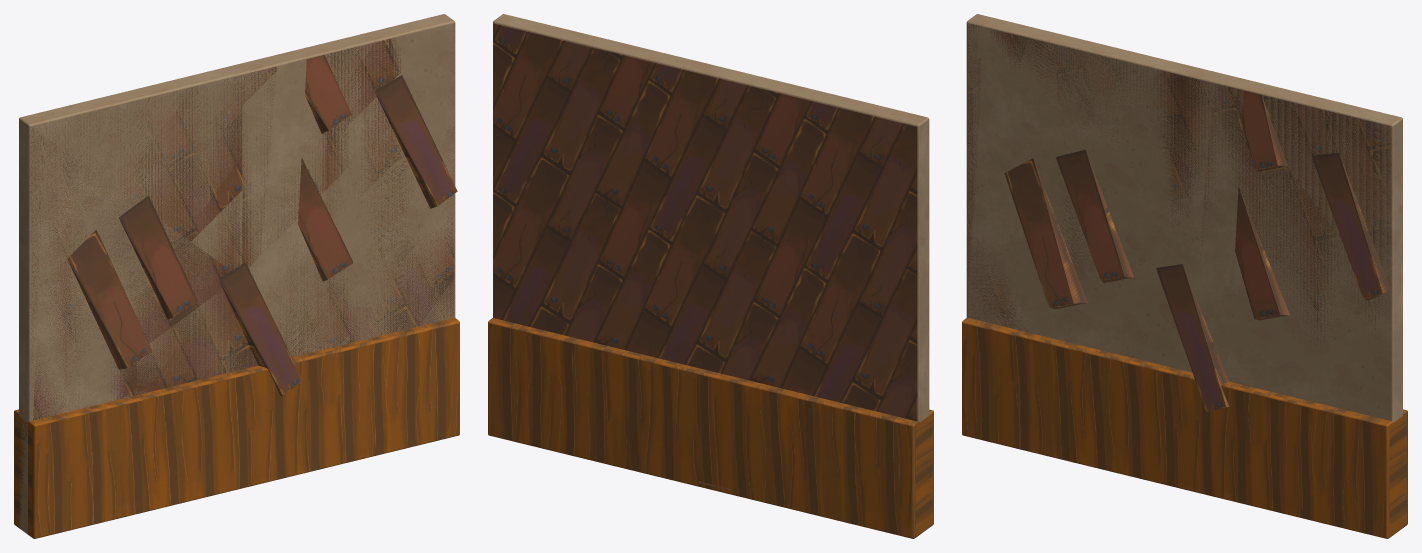
The model's file is blocos_pobre.fbx.
The picture shows the model from 3 angles, left to right: view 1: azimuth 30°, elevation 25°; view 2: azimuth 150°, elevation 25°; view 3: azimuth 330°, elevation 25°; orthographic projection.
Parts seen in each view (by area): view 1: Parede_Pobre_01, Telhado_Pobre, Base_Parede_Pobre; view 2: Telhado_Pobre, Base_Parede_Pobre, Parede_Pobre_01; view 3: Parede_Pobre_01, Telhado_Pobre, Base_Parede_Pobre.
Boxes of the visible parts, box(x1,y1,x2,y2) form: Parede_Pobre_01: box(19, 14, 455, 534); Telhado_Pobre: box(30, 23, 457, 420); Base_Parede_Pobre: box(14, 317, 459, 538); Telhado_Pobre: box(493, 23, 917, 490); Base_Parede_Pobre: box(488, 318, 933, 538); Parede_Pobre_01: box(493, 14, 929, 534); Parede_Pobre_01: box(966, 14, 1402, 534); Telhado_Pobre: box(967, 23, 1391, 411); Base_Parede_Pobre: box(962, 317, 1407, 538).
Size of the model in its own units: 325 by 300 by 31.73.
